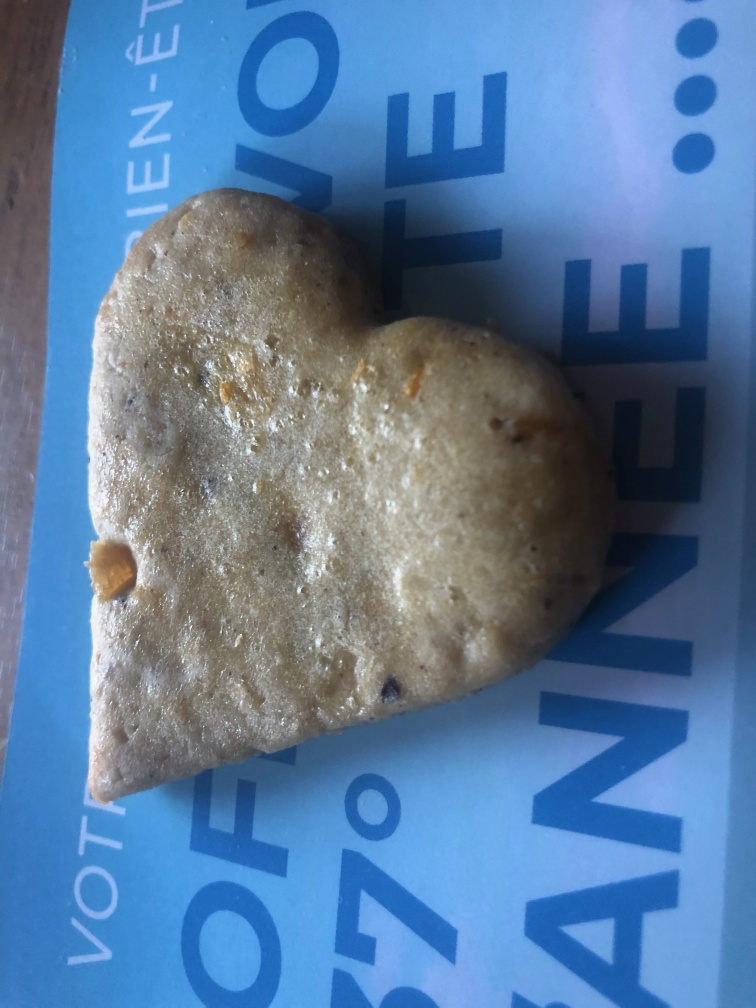heart: (80, 185, 624, 812)
